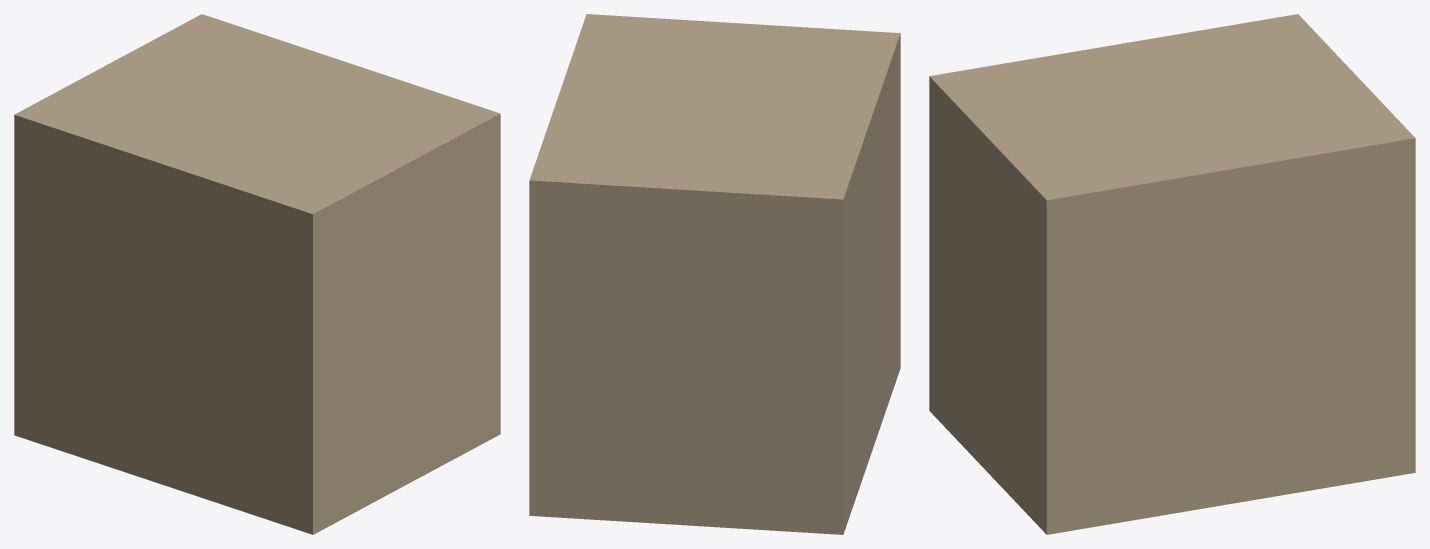
Rendered from bld_106796694.dae.
3 views of the same model, side by side, from view 1: azimuth 30°, elevation 25°; view 2: azimuth 150°, elevation 25°; view 3: azimuth 270°, elevation 25° (orthographic). The views are drawn at different scales.
Visible parts, largest first — view 1: bld_106796694; view 2: bld_106796694; view 3: bld_106796694.
Part boxes in pixels (<box>): bld_106796694: <box>14,14,500,534</box>; bld_106796694: <box>529,14,900,534</box>; bld_106796694: <box>929,14,1415,534</box>.
Bounding box in the file's own units: 9.55 × 10.54 × 8.
